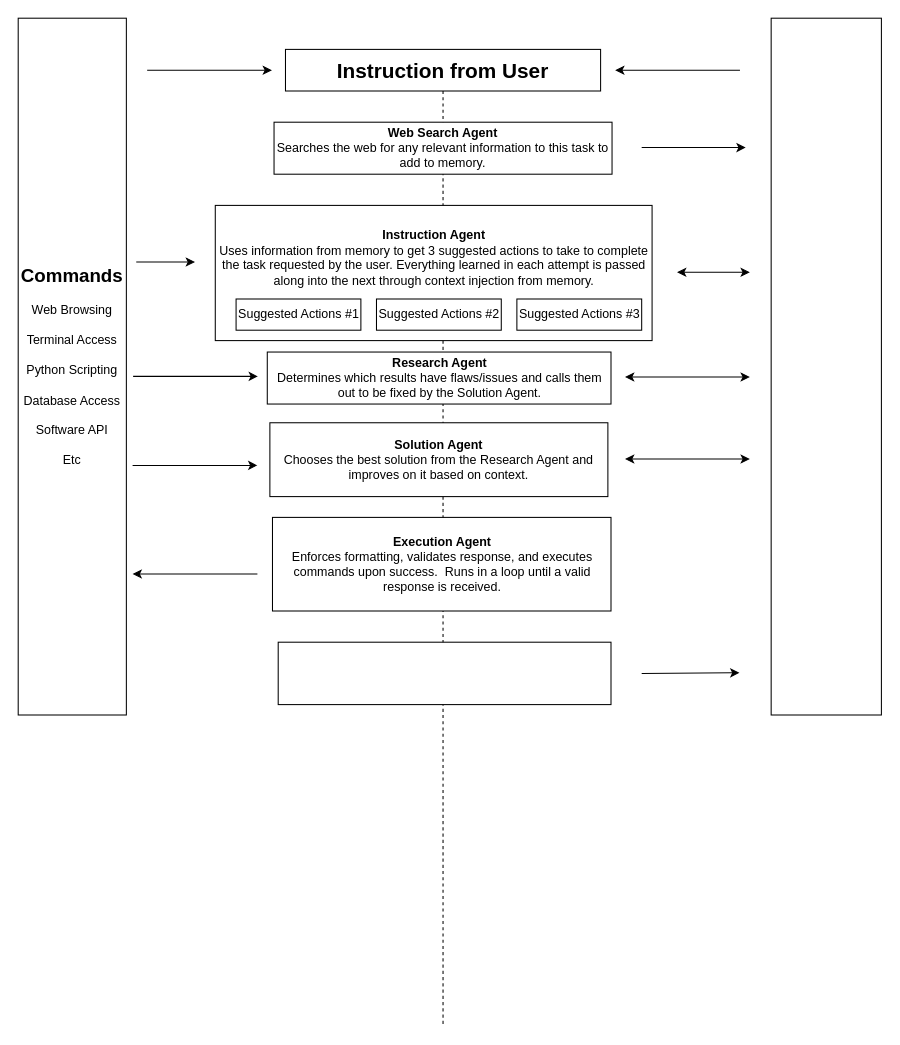
This 900x1045 diagram has some shape labels left out. The shapes that lost their labels are listed below. From the top down, each one's box as (x1, y1, x2, y2) in pixels, then its label:
(770, 17, 881, 715): Memories
(277, 641, 611, 705): Final Output
